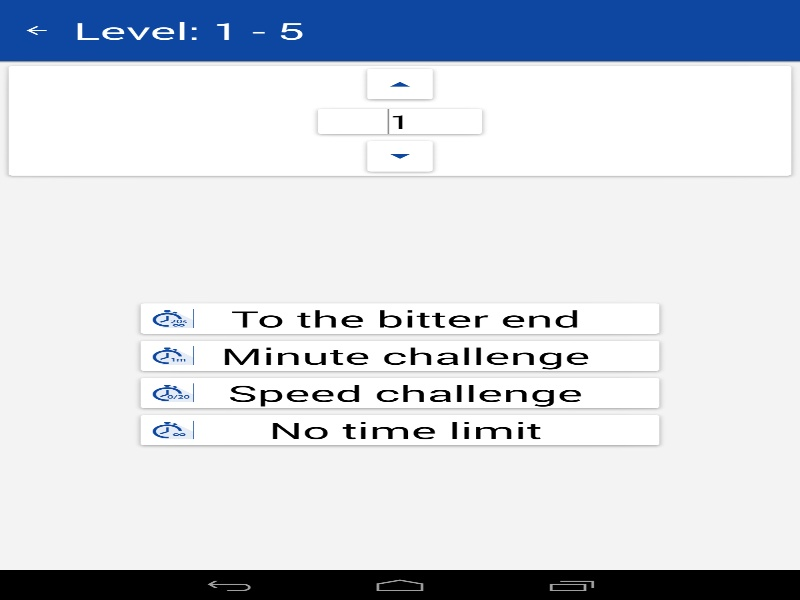Button: (133, 337, 666, 375), (133, 300, 666, 337), (133, 375, 666, 412), (133, 412, 666, 449), (360, 65, 440, 103), (360, 138, 440, 175), (0, 13, 73, 47)
Input: (310, 105, 489, 138)
